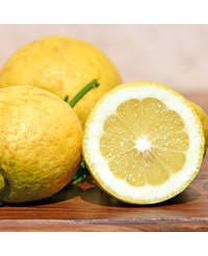lemon: (82, 81, 204, 205), (0, 87, 82, 202)
